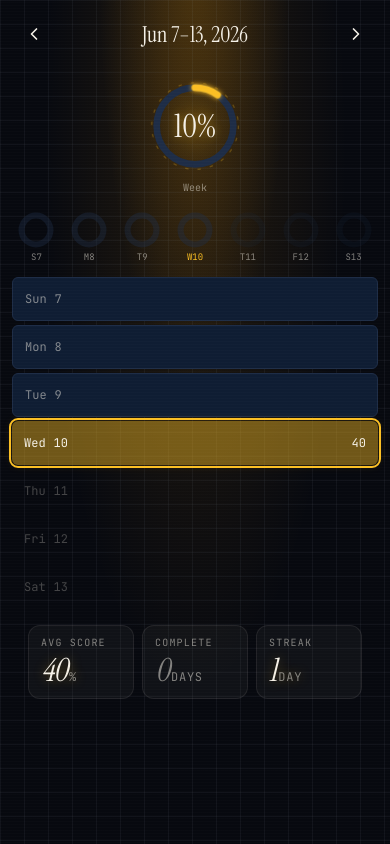
Test: C-m9d-003: WeekView — prev/next across month and year boundaries › navigating to W-monthcross renders rows 2026-05-31…2026-06-06 with correct label
The image size is (390, 844).
Navigate: from 2026-06-07..13 back 1 week → 2026-05-31..06-06
Click the button named "Previous week" at (34, 34), box [12, 12, 56, 56]
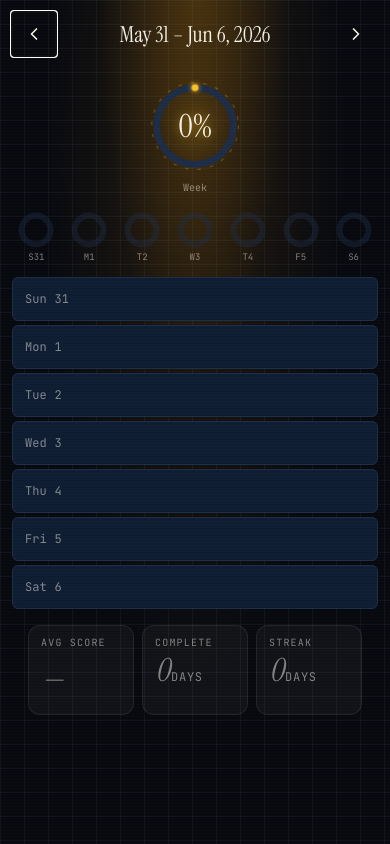
Expected: the heading "May 31 – Jun 6, 2026" is shown, [120, 18, 270, 50]
Expected: the text "31" is shown, [55, 290, 69, 308]
Expected: the text "6" is shown, [55, 578, 62, 596]
